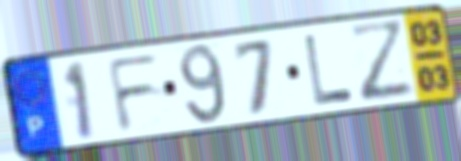1: (60, 58, 99, 141)
7: (231, 36, 277, 117)
9: (175, 42, 228, 127)
F: (104, 51, 164, 135)
L: (301, 32, 355, 107)
Z: (345, 18, 419, 106)
